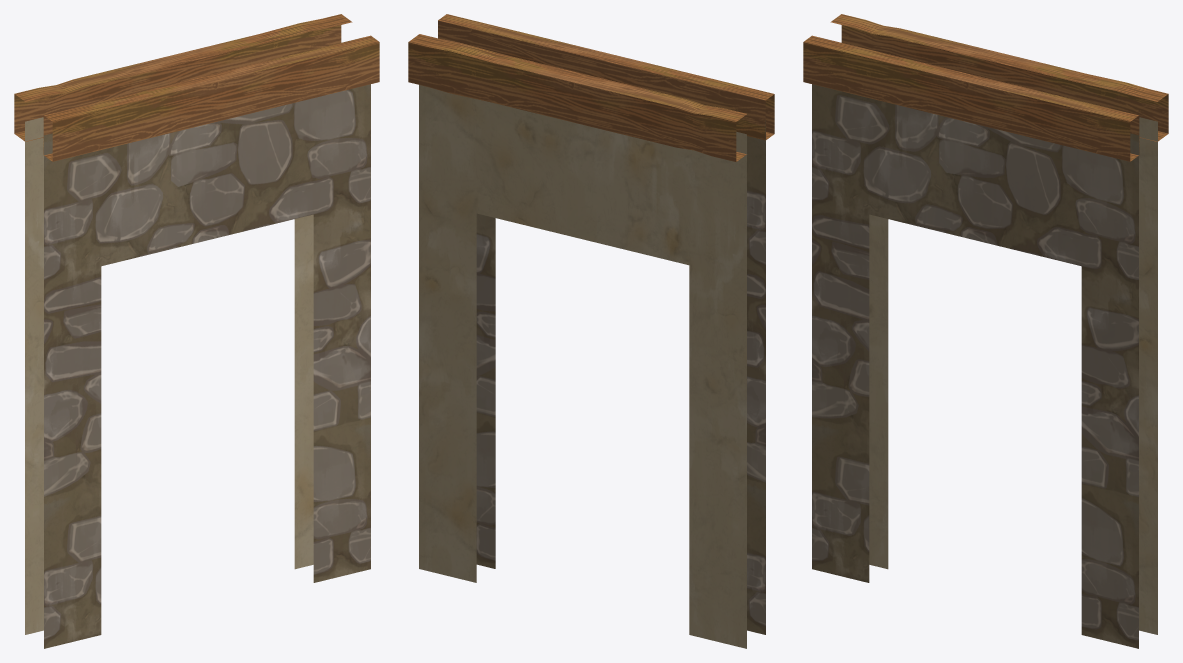
The model's file is Wall_UnevenBrick_Door_Flat.gltf.
3 views of the same model, side by side, from view 1: azimuth 30°, elevation 25°; view 2: azimuth 150°, elevation 25°; view 3: azimuth 330°, elevation 25° (orthographic).
Parts seen in each view (by area): view 1: Wall_UnevenBrick_Door_Flat; view 2: Wall_UnevenBrick_Door_Flat; view 3: Wall_UnevenBrick_Door_Flat.
Boxes of the visible parts, x1,y1,x2,y2 form: Wall_UnevenBrick_Door_Flat: (14,14,379,648); Wall_UnevenBrick_Door_Flat: (408,14,774,648); Wall_UnevenBrick_Door_Flat: (803,14,1168,648).
Bounding box in the file's own units: 2 × 3.12 × 0.4065.
3 materials, 3 textured.
